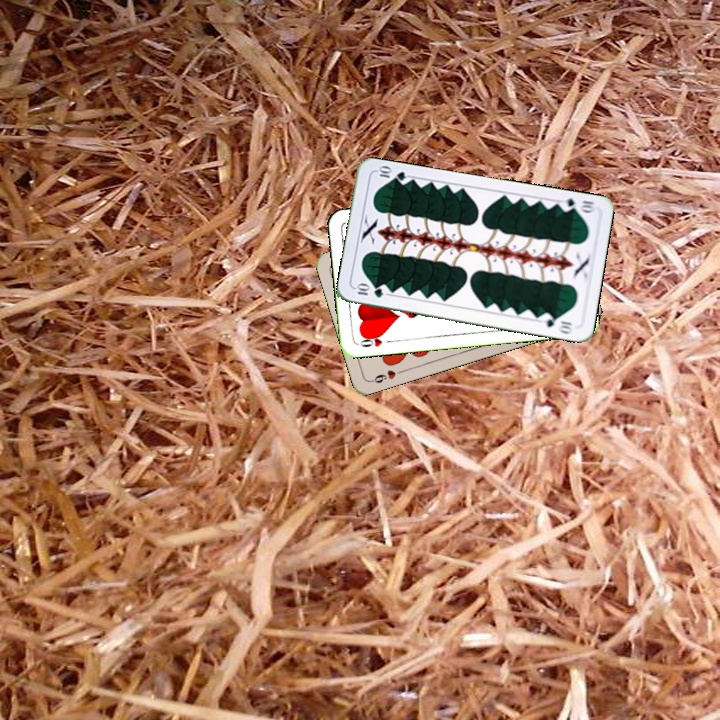G10: (556, 194, 598, 216), (352, 281, 386, 300)
H9: (367, 366, 406, 386)
HO: (354, 330, 395, 350)
